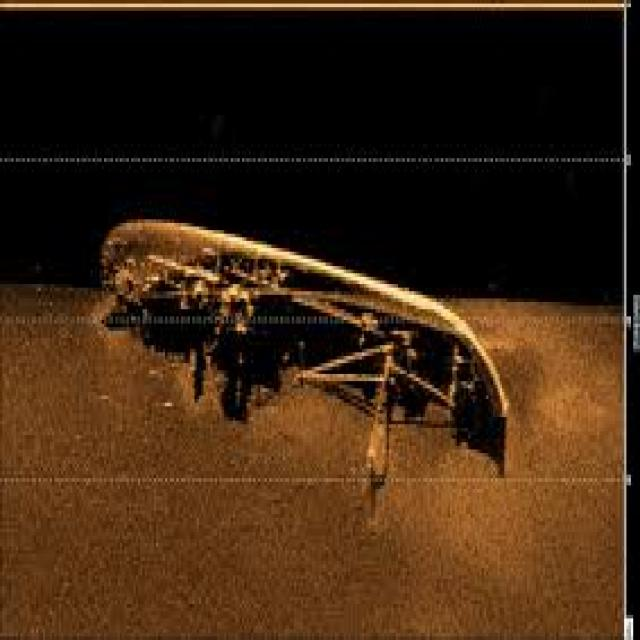ship: (97, 205, 511, 464)
